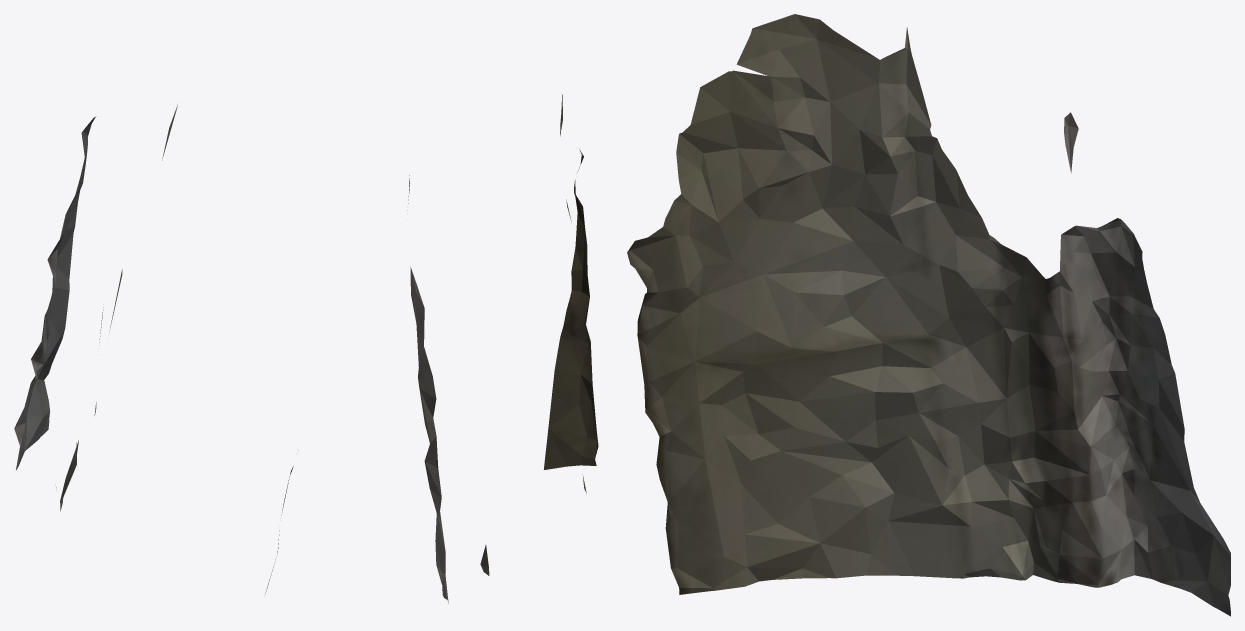
3 renders of one model, left to right at view 1: azimuth 30°, elevation 25°; view 2: azimuth 150°, elevation 25°; view 3: azimuth 270°, elevation 25°, orthographic. The views are drawn at different scales.
Size of the model in its own units: 0.0819 by 0.5485 by 0.4979.
1 material, 1 textured.
